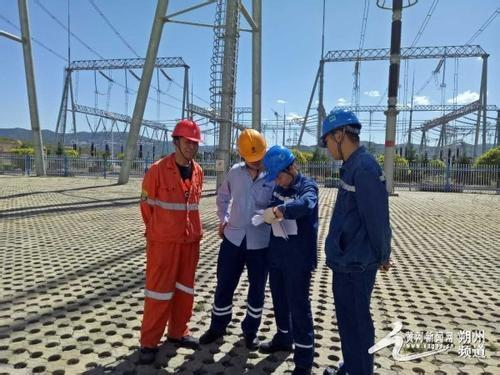helmet: (317, 105, 364, 161), (171, 115, 204, 163), (264, 144, 297, 191), (235, 126, 264, 171)
not_reflective: (326, 151, 393, 278), (216, 161, 272, 249), (270, 178, 321, 268)
reflective: (139, 158, 203, 243)
